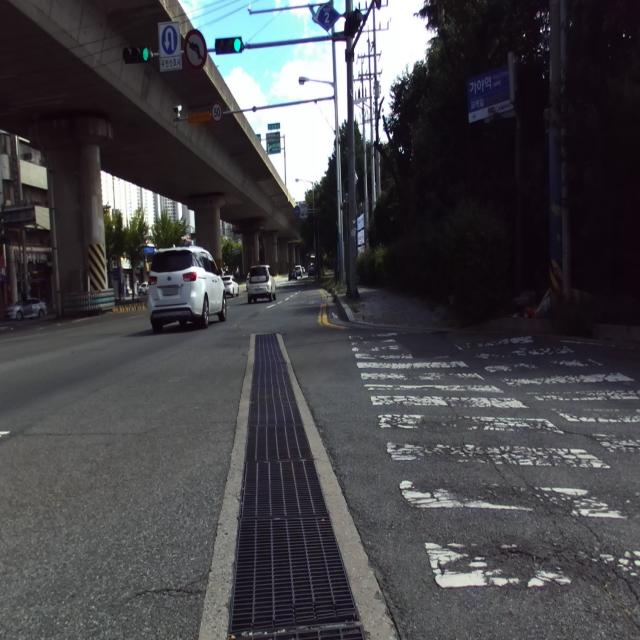횡단보도: (349, 332, 640, 588)
